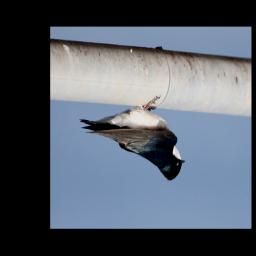Swallow: (79, 95, 185, 181)
